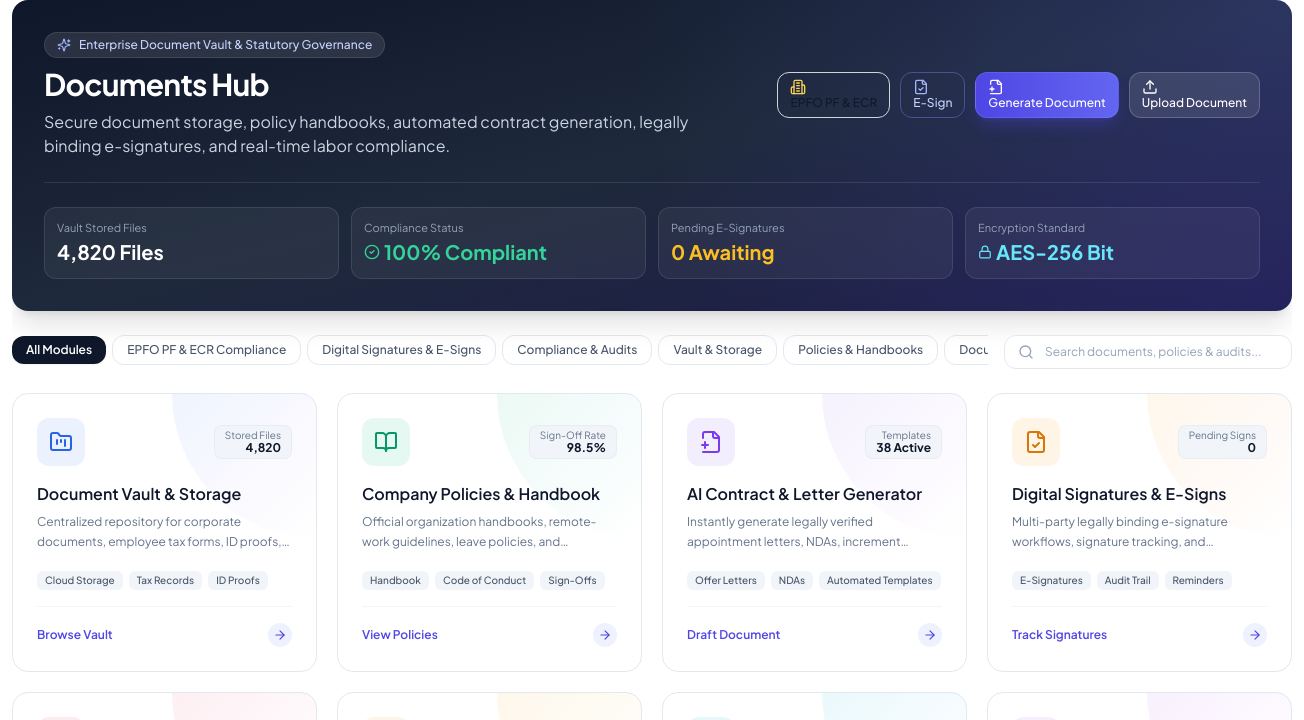
Test: DocumentsComplianceHubPage Integration › clicking Digital Signatures card switches to SignatureCenter workspace
What coordinates should you click on to do the following:
click the button "Digital Signatures & E-Signs"
I would click on:
 (1140, 532)
Its box is [987,393,1292,672].
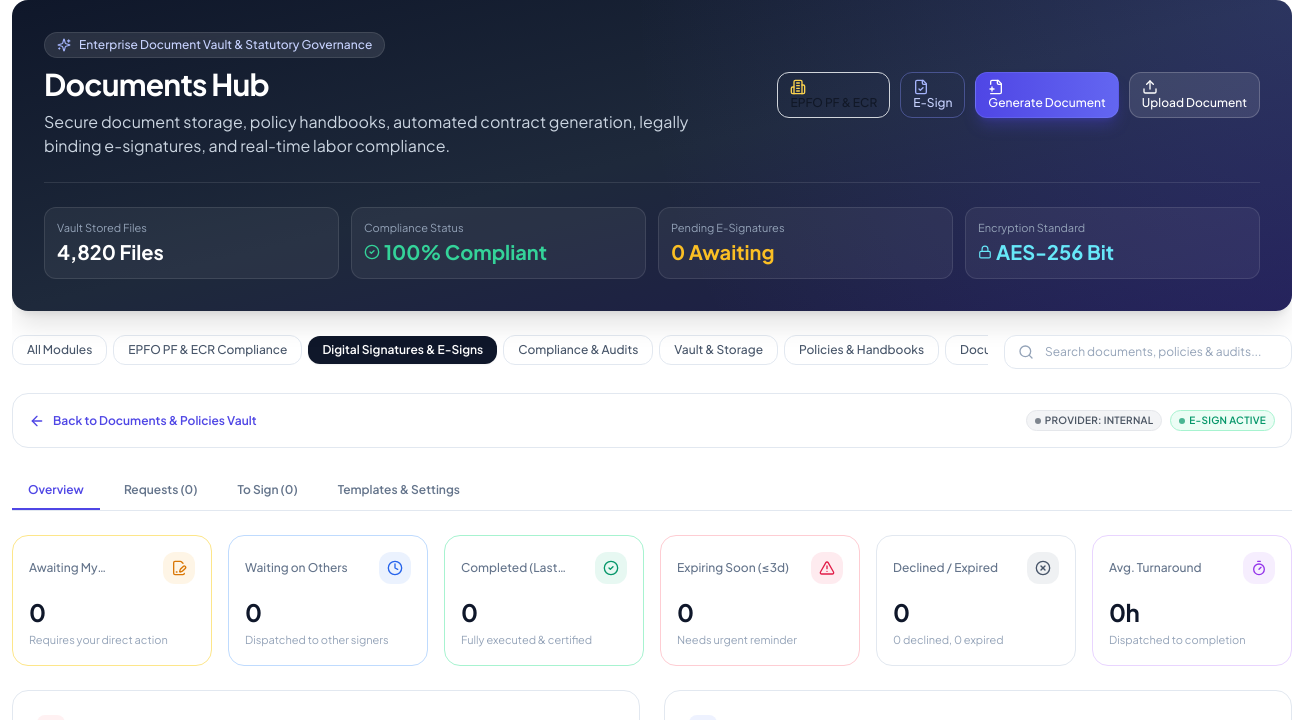
Now the text "Back to Documents & Policies Vault" is shown, box [53,412,256,428]
Now the text "Templates & Settings" is shown, box [338,482,460,498]
Now the text "Requests (0)" is shown, box [124,482,197,498]
